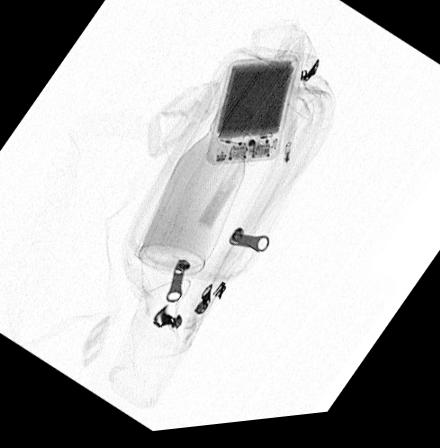Powerbank: (204, 61, 298, 173)
